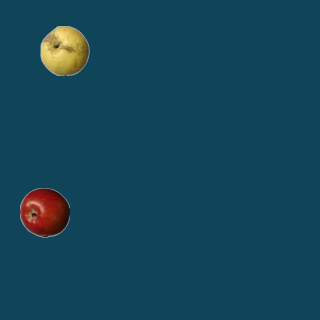Apple Braeburn: (19, 187, 69, 237)
Apple Golden 1: (39, 25, 89, 75)
